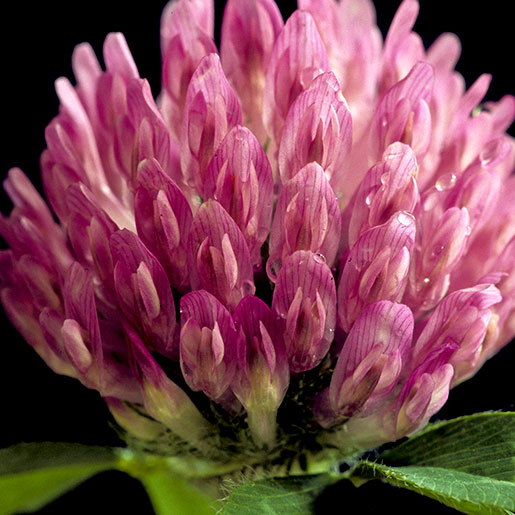clover: (6, 2, 515, 515)
